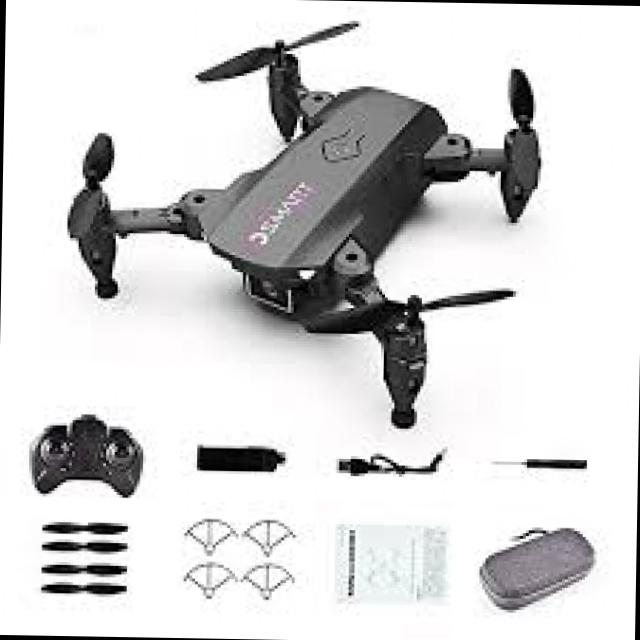drone: (40, 12, 565, 428)
